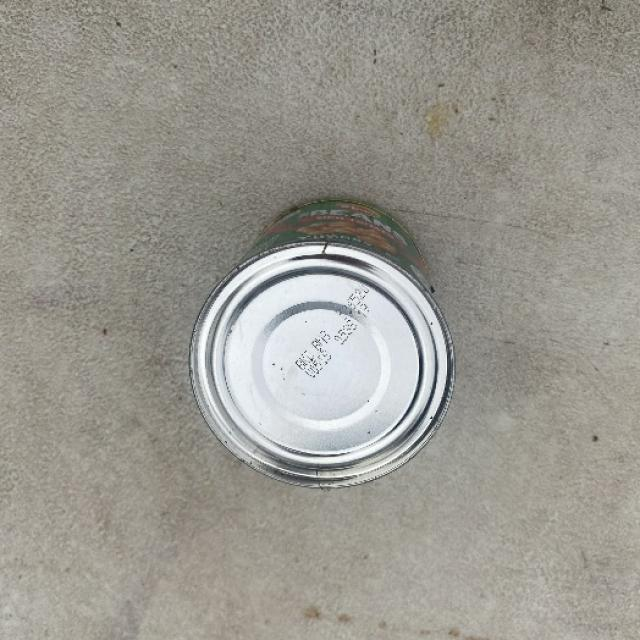metal: (187, 196, 455, 488)
